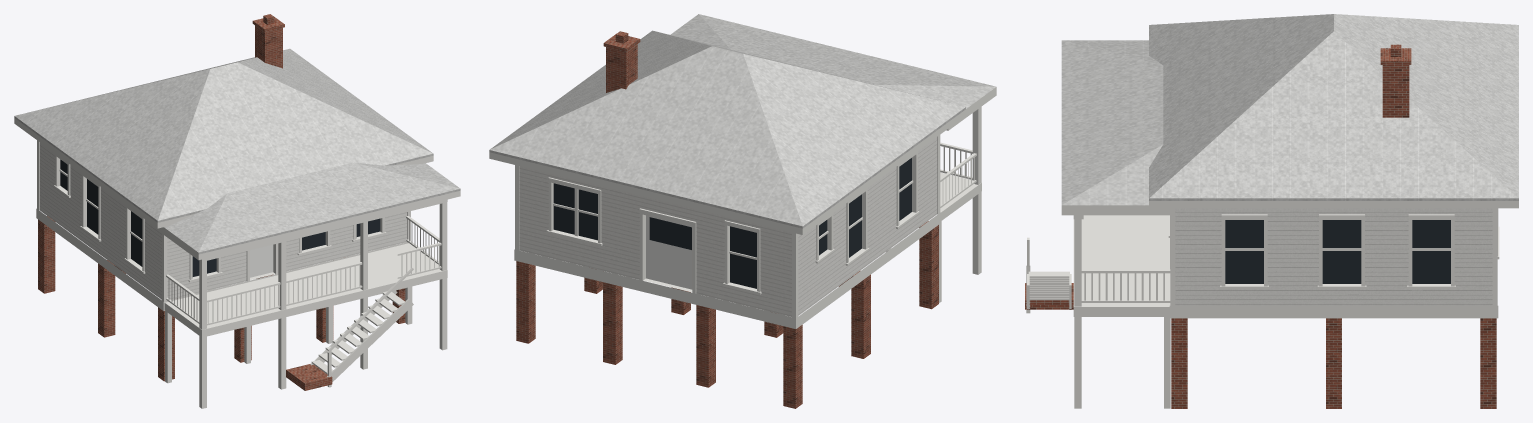
Rendered from house-coastal.glb.
The picture shows the model from 3 angles, left to right: view 1: azimuth 30°, elevation 25°; view 2: azimuth 150°, elevation 25°; view 3: azimuth 270°, elevation 25°; orthographic projection. The views are drawn at different scales.
Visible parts, largest first — view 1: House; view 2: House; view 3: House.
Boxes of the visible parts, x1,y1,x2,y2 form: House: (14,14,460,408); House: (489,14,996,408); House: (1025,14,1518,408).
Size of the model in its own units: 10.1 by 8.91 by 12.15.
6 materials, 3 textured.
